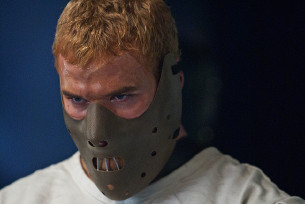face_mask: (59, 44, 161, 197)
